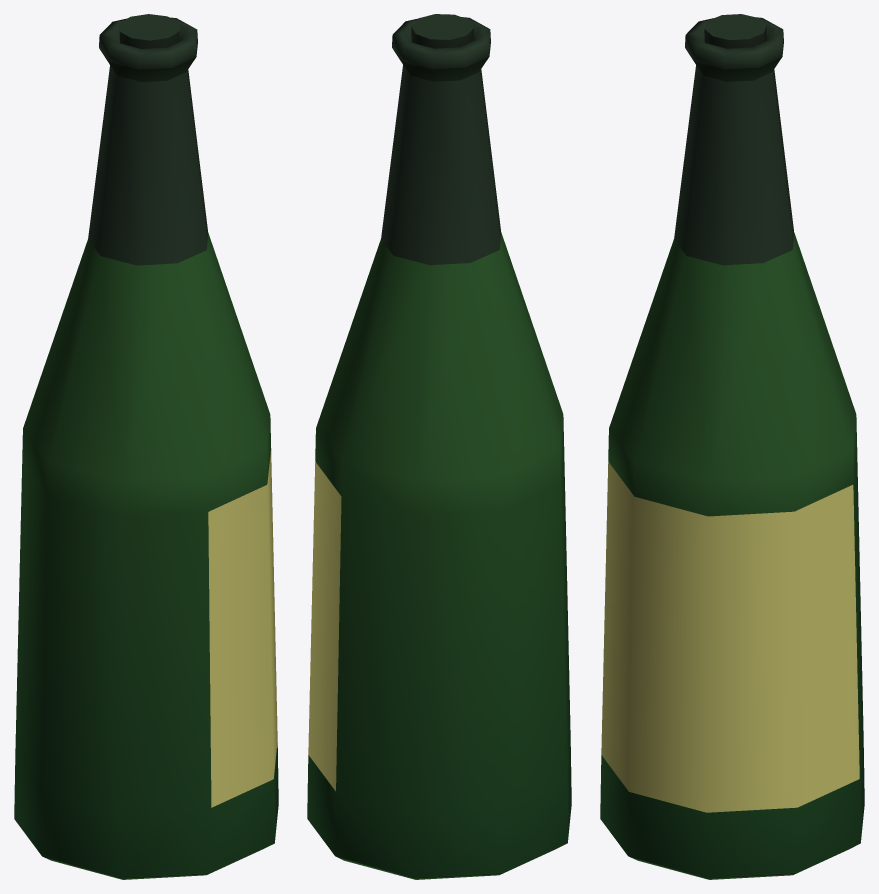
3 renders of one model, left to right at view 1: azimuth 30°, elevation 25°; view 2: azimuth 150°, elevation 25°; view 3: azimuth 270°, elevation 25°, orthographic.
Visible parts, largest first — view 1: base.014; view 2: base.014; view 3: base.014.
Part boxes in pixels (x1,y1,x2,y2): base.014: (14,14,278,879); base.014: (307,14,571,879); base.014: (600,14,864,879).
Size of the model in its own units: 0.1507 by 0.5 by 0.1495.
